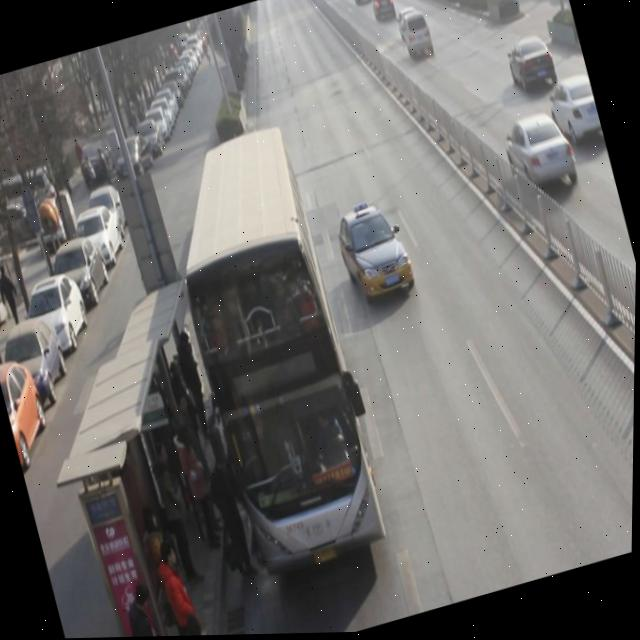car: (332, 195, 423, 311), (499, 104, 583, 201), (544, 70, 603, 145), (504, 30, 562, 95), (395, 1, 421, 30), (369, 0, 398, 21), (351, 0, 373, 2)
truck: (397, 5, 438, 60)
van: (151, 119, 397, 570)
